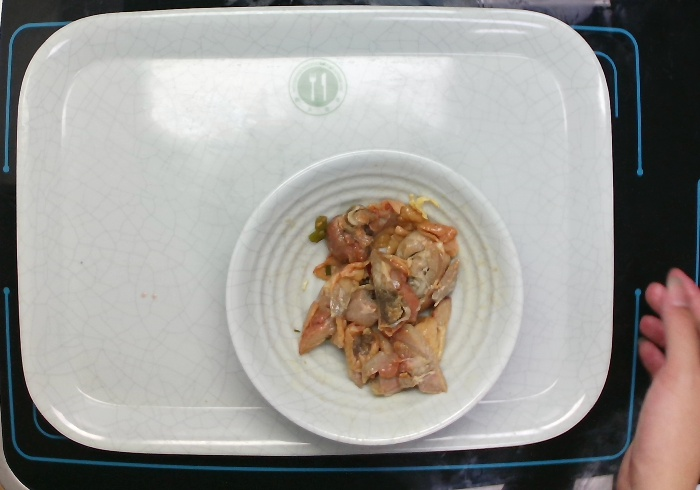JYsf-Xiao_Tang_Wan: (220, 144, 527, 451)
